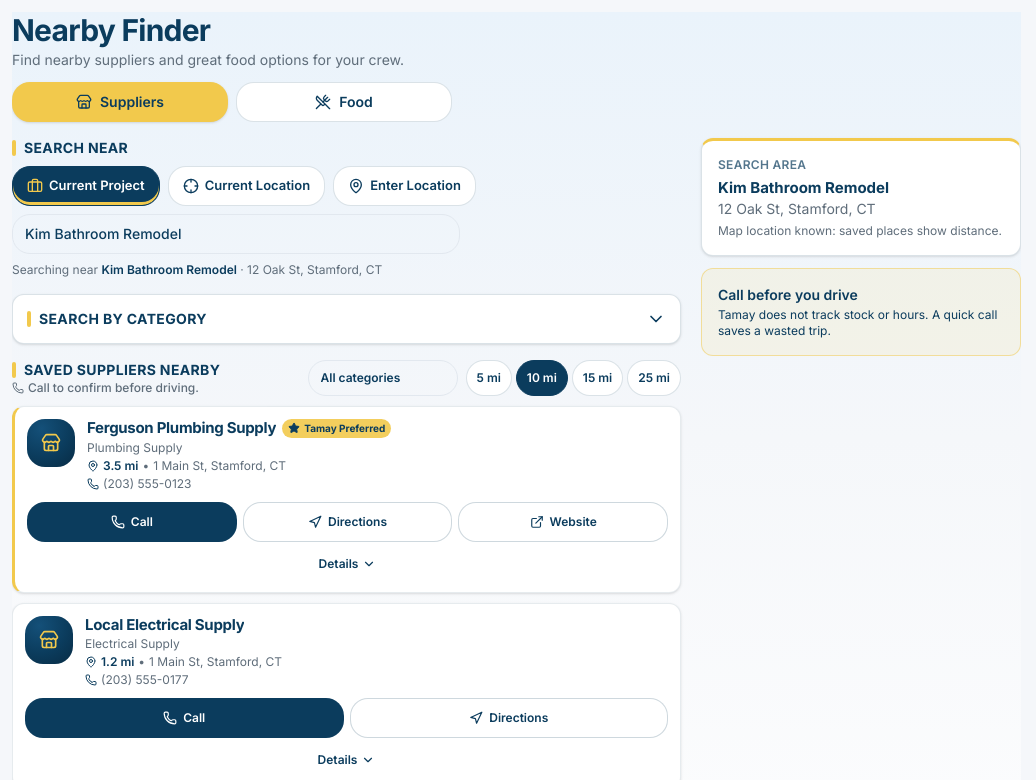
Test: Saved Nearby (below the searches, cards unchanged) › Details stay closed until opened; employees get no edit controls
The image size is (1036, 780).
Expected: the text "Call Mike" is not shown
Click the button "Details" below "Website".
click(348, 564)  # box [27,548,668,580]
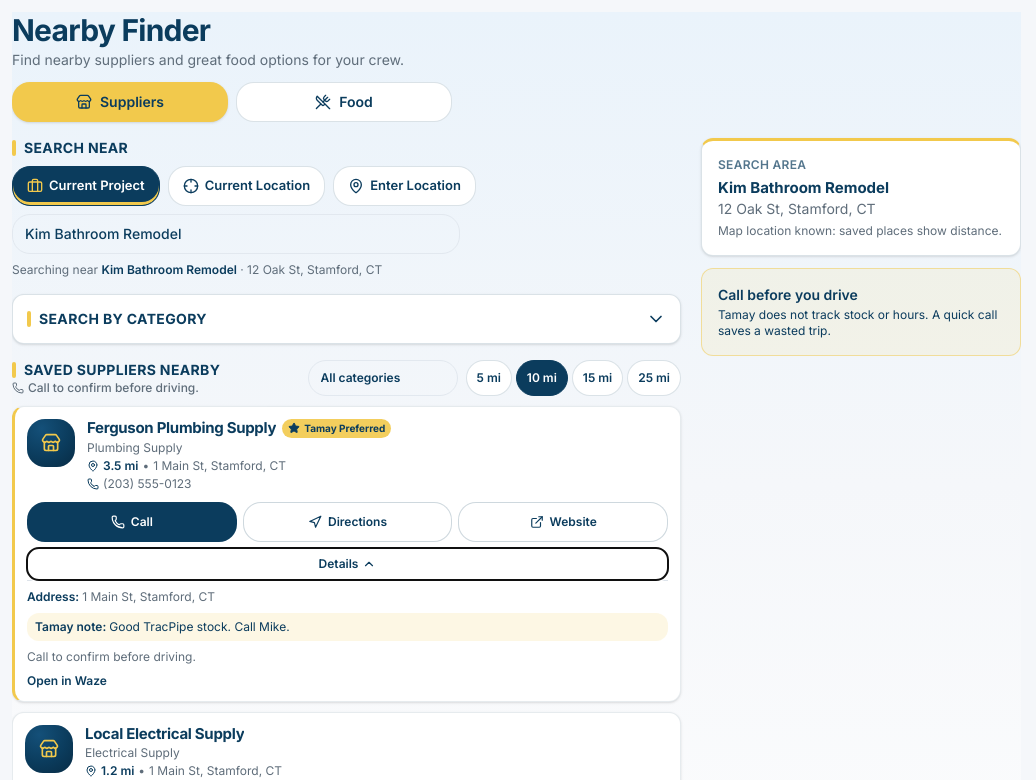
Expected: the text "Tamay note: Good TracPipe stock. Call Mike." is shown, [27,612,668,640]
